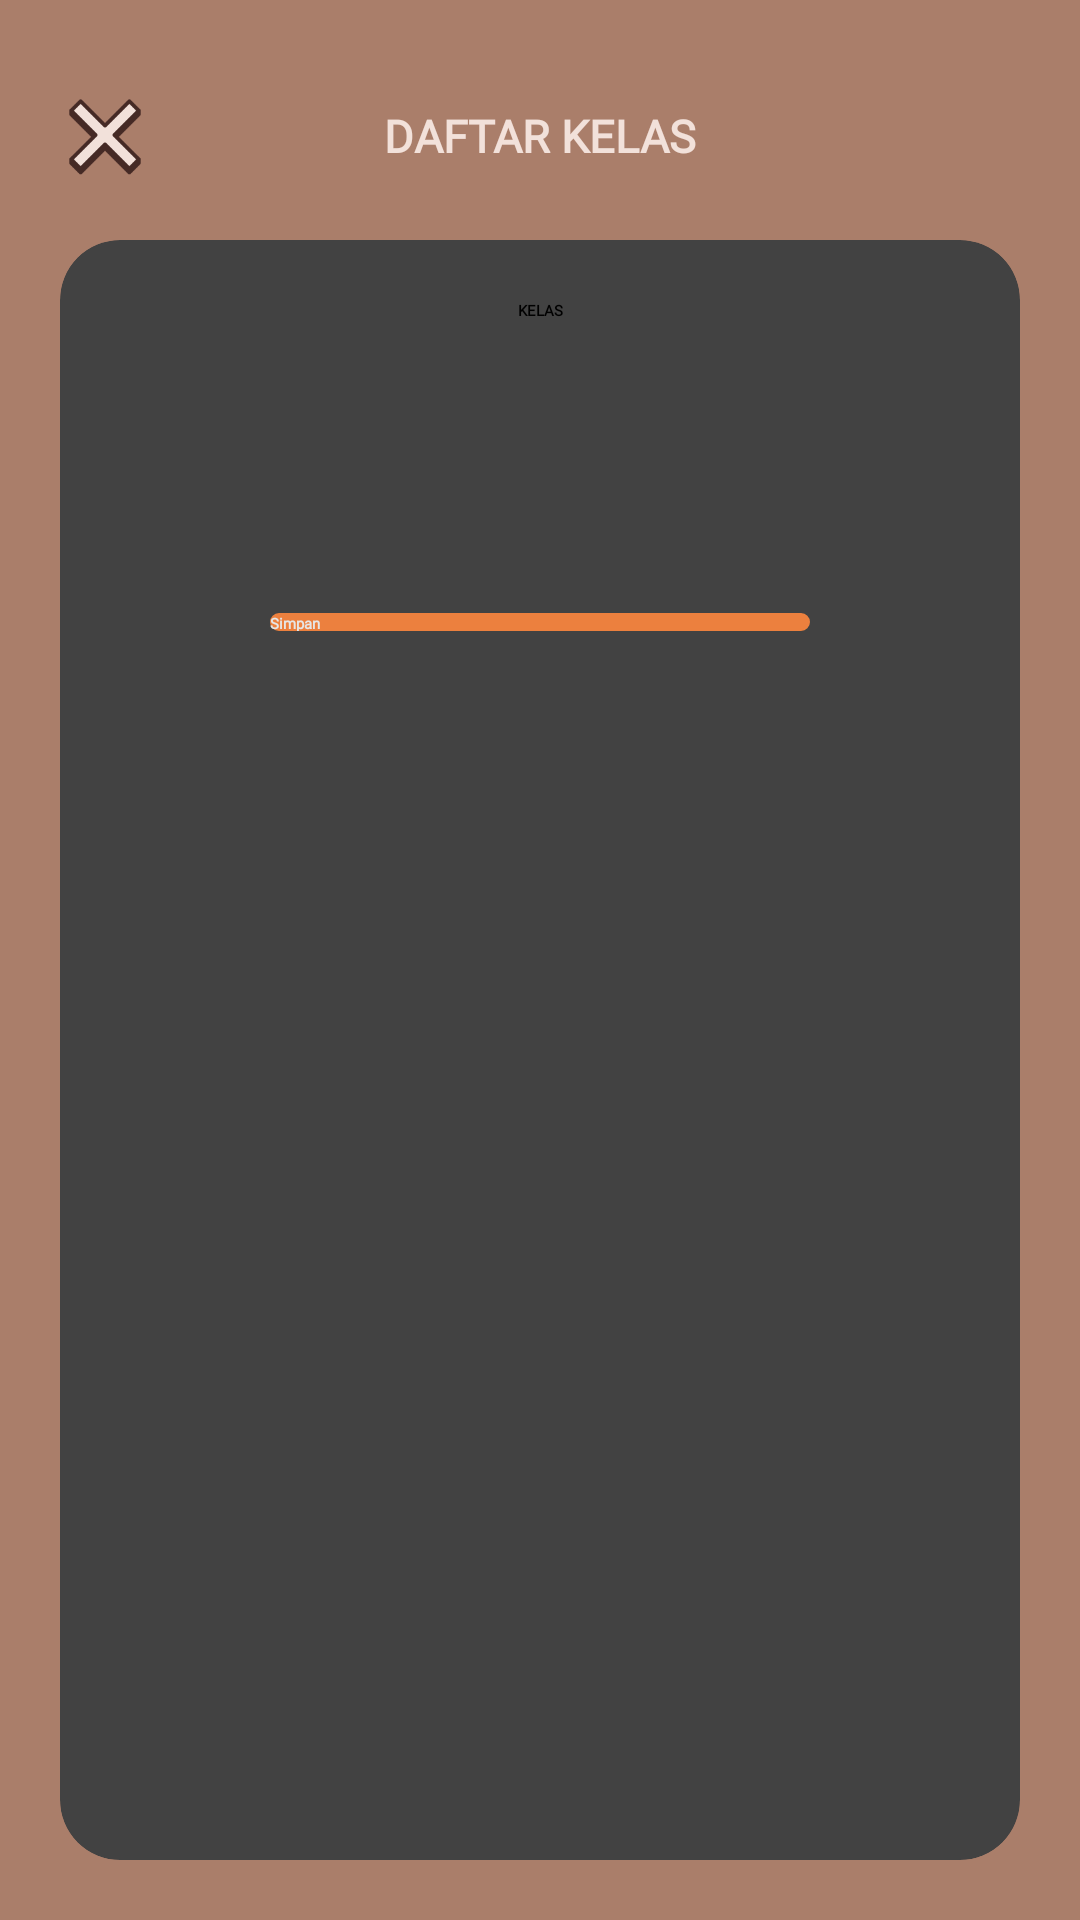

Screen size 1080 × 1920. Icon name, then its center in pixels as (x=x, y=y):
close: (x=105, y=137)
